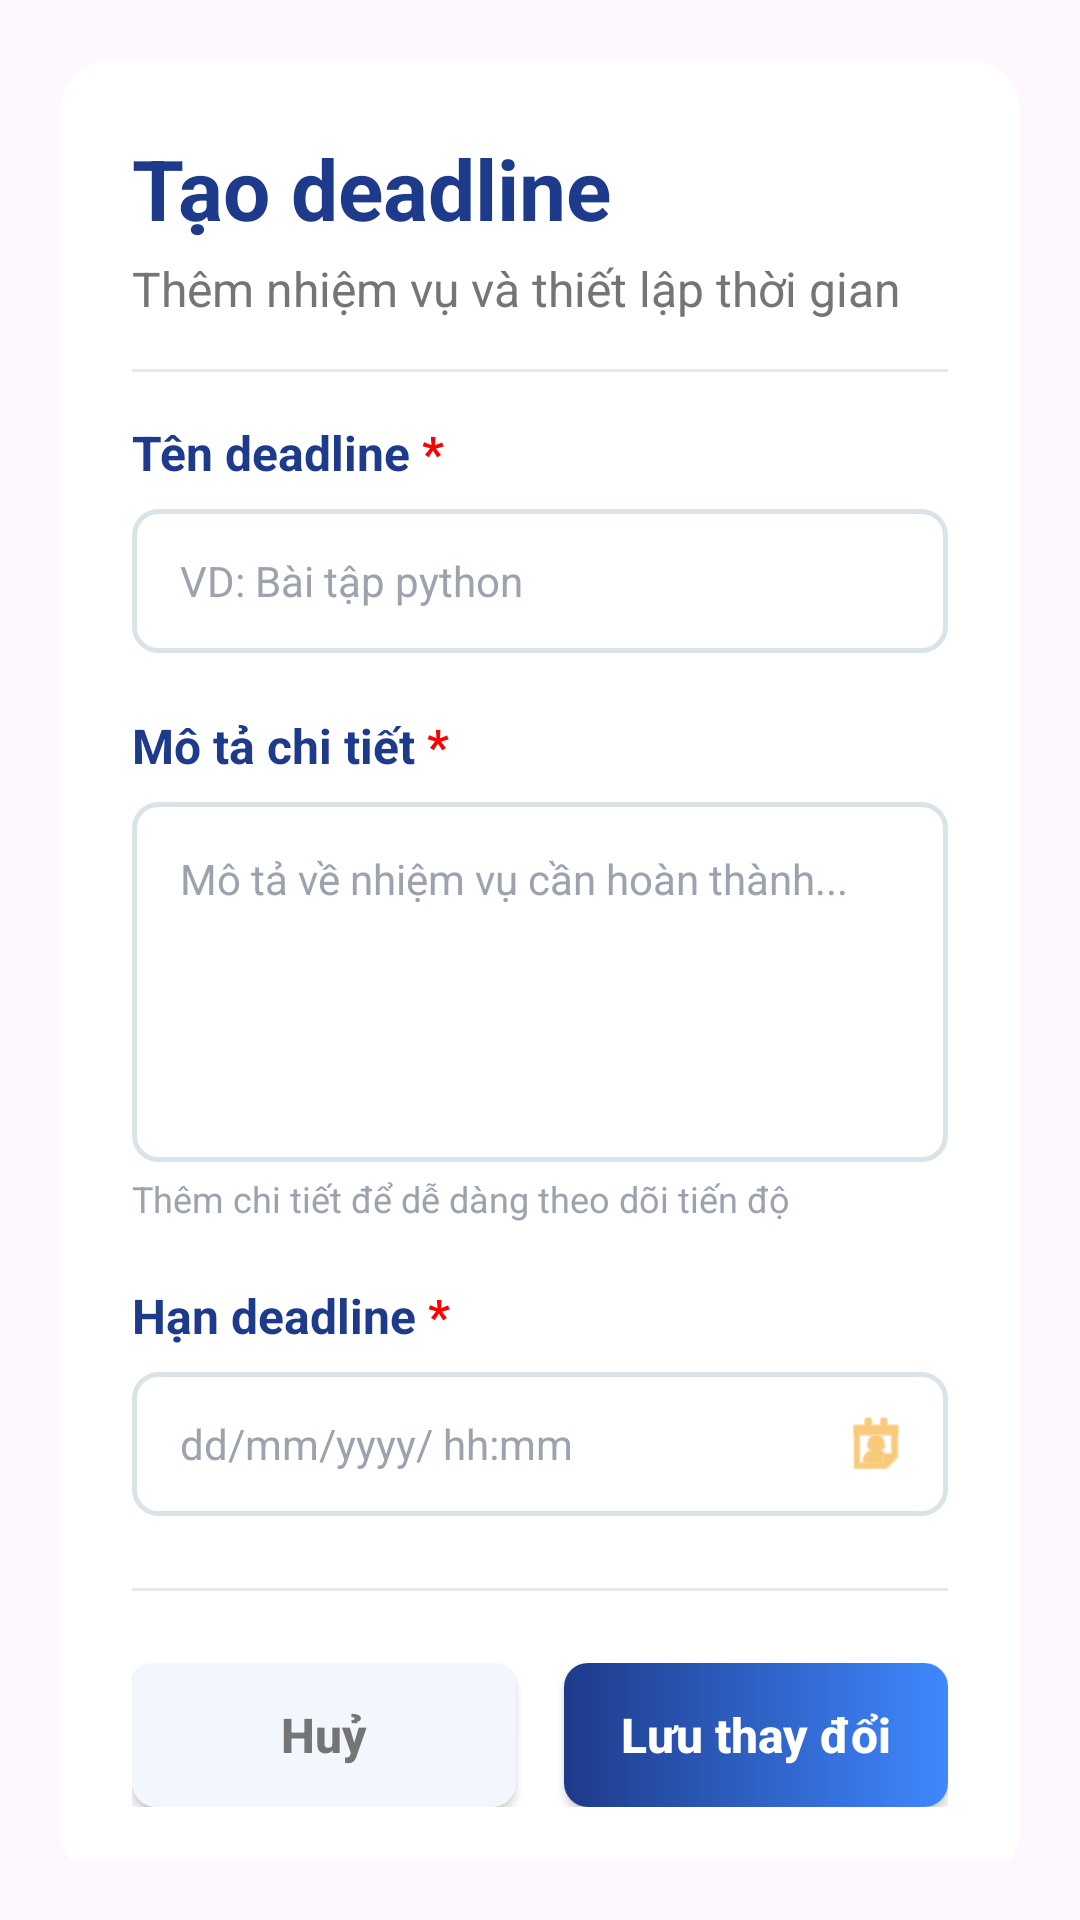

Screen size 1080*1920. Icon name, then its center in pixels as point (x, y):
calendar: point (876, 1443)
